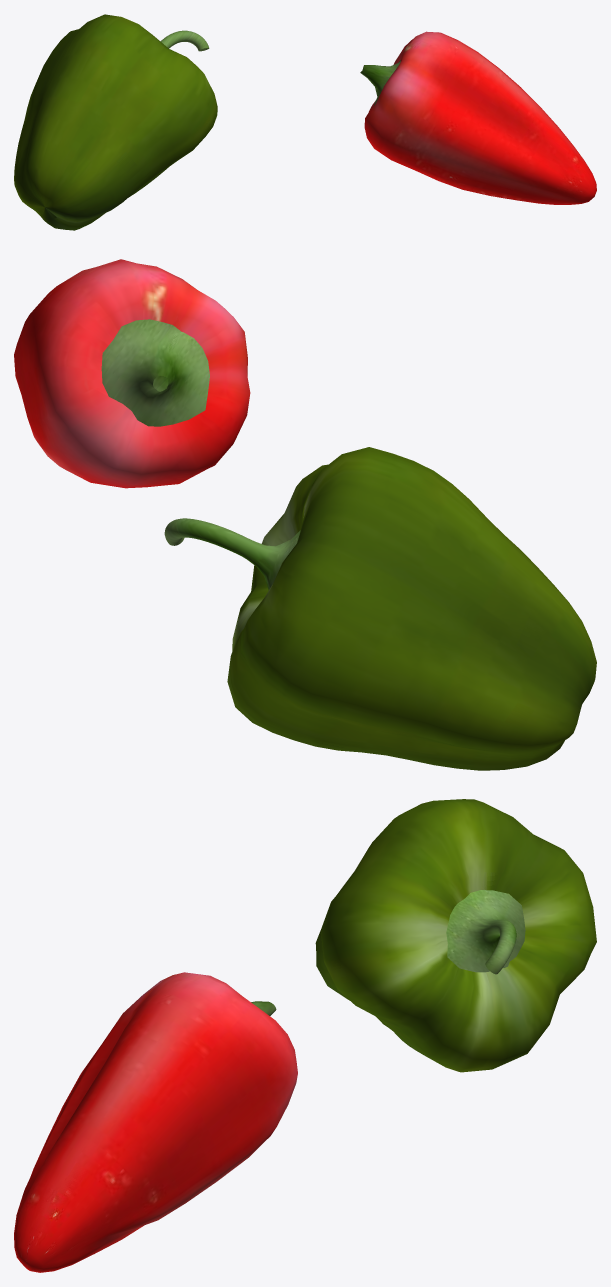
File: PEPPERS.obj
The picture shows the model from 3 angles, top to bottom: view 1: azimuth 30°, elevation 25°; view 2: azimuth 150°, elevation 25°; view 3: azimuth 270°, elevation 25°; orthographic projection. The views are drawn at different scales.
Parts seen in each view (by area): view 1: Mesh1 pepper_green1 Component_2__6_1 Model, Mesh2 pepper_red_1_1 Component_2__6_1 Model; view 2: Mesh1 pepper_green1 Component_2__6_1 Model, Mesh2 pepper_red_1_1 Component_2__6_1 Model; view 3: Mesh1 pepper_green1 Component_2__6_1 Model, Mesh2 pepper_red_1_1 Component_2__6_1 Model.
Part boxes in pixels (bbox=[...]): Mesh1 pepper_green1 Component_2__6_1 Model: bbox=[14, 14, 217, 230]; Mesh2 pepper_red_1_1 Component_2__6_1 Model: bbox=[360, 31, 596, 204]; Mesh1 pepper_green1 Component_2__6_1 Model: bbox=[164, 447, 596, 770]; Mesh2 pepper_red_1_1 Component_2__6_1 Model: bbox=[14, 259, 250, 488]; Mesh1 pepper_green1 Component_2__6_1 Model: bbox=[315, 799, 596, 1072]; Mesh2 pepper_red_1_1 Component_2__6_1 Model: bbox=[14, 972, 297, 1272].
Size of the model in its own units: 125 by 47.98 by 95.79.
Materials: 34 (34 with a texture image).
